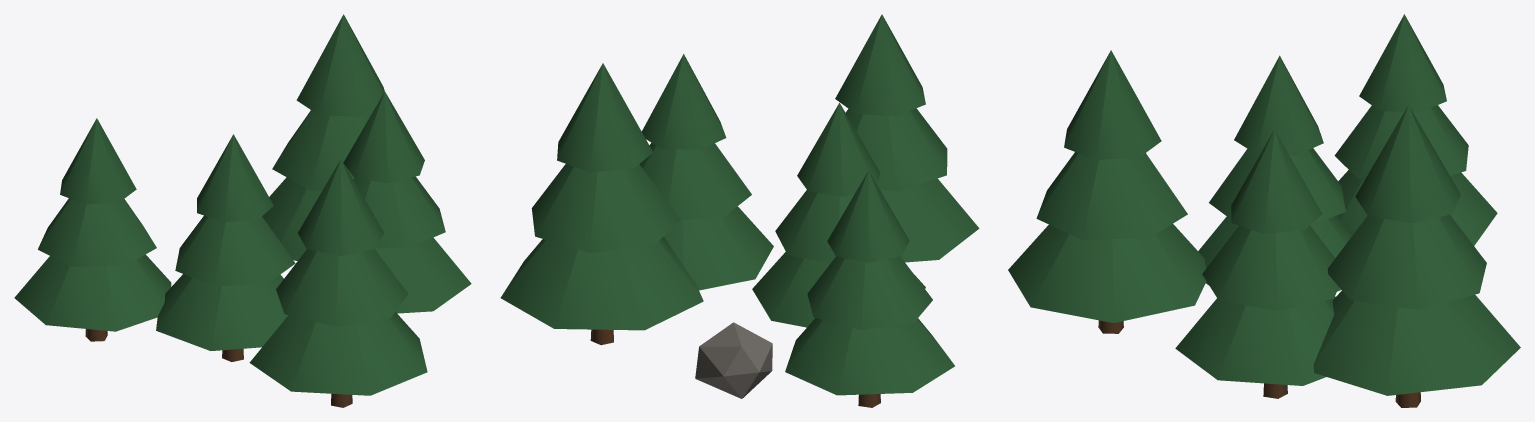
File: sawyer_pine_stand_c.glb
The picture shows the model from 3 angles, left to right: view 1: azimuth 30°, elevation 25°; view 2: azimuth 150°, elevation 25°; view 3: azimuth 270°, elevation 25°; orthographic projection. The views are drawn at different scales.
Parts seen in each view (by area): view 1: pine_3_tier0, pine_0_tier0, pine_3_tier1, pine_2_tier0, pine_2_tier1, pine_0_tier1, pine_5_tier2, pine_3_tier2, pine_5_tier1, pine_1_tier1, pine_1_tier2, pine_1_tier0 (+3 smaller); view 2: pine_5_tier0, pine_5_tier1, pine_0_tier0, pine_0_tier1, pine_5_tier2, pine_1_tier0, pine_1_tier1, pine_3_tier1, pine_3_tier2, pine_3_tier0, pine_1_tier2, pine_0_tier2 (+4 smaller); view 3: pine_5_tier0, pine_3_tier0, pine_5_tier1, pine_1_tier0, pine_3_tier1, pine_1_tier1, pine_5_tier2, pine_3_tier2, pine_1_tier2, pine_0_tier2, pine_2_tier2, pine_0_tier1 (+3 smaller).
Part boxes in pixels (box(x1,y1,x2,y2)): pine_3_tier0: box(249, 312, 427, 395); pine_0_tier0: box(14, 254, 171, 331); pine_3_tier1: box(276, 249, 408, 326); pine_2_tier0: box(156, 274, 288, 350); pine_2_tier1: box(175, 215, 295, 286); pine_0_tier1: box(38, 198, 156, 266); pine_5_tier2: box(296, 14, 384, 116); pine_3_tier2: box(298, 159, 383, 255); pine_5_tier1: box(272, 110, 373, 190); pine_1_tier1: box(353, 176, 445, 248); pine_1_tier2: box(343, 91, 424, 183); pine_1_tier0: box(375, 237, 471, 313); pine_5_tier0: box(500, 236, 703, 330); pine_5_tier1: box(531, 164, 680, 252); pine_0_tier0: box(785, 318, 954, 395); pine_0_tier1: box(807, 256, 932, 329); pine_5_tier2: box(557, 63, 653, 172); pine_1_tier0: box(663, 206, 773, 290); pine_1_tier1: box(639, 142, 751, 220); pine_3_tier1: box(845, 108, 947, 191); pine_3_tier2: box(835, 14, 925, 116); pine_3_tier0: box(880, 178, 979, 262); pine_1_tier2: box(641, 54, 726, 149); pine_0_tier2: box(827, 170, 909, 262); pine_5_tier0: box(1313, 291, 1520, 395); pine_3_tier0: box(1008, 224, 1206, 322); pine_5_tier1: box(1327, 214, 1486, 309); pine_1_tier0: box(1175, 296, 1335, 385); pine_3_tier1: box(1036, 152, 1187, 239); pine_1_tier1: box(1202, 225, 1338, 310); pine_5_tier2: box(1355, 105, 1460, 223); pine_3_tier2: box(1064, 50, 1161, 160); pine_1_tier2: box(1231, 129, 1322, 233); pine_0_tier2: box(1359, 14, 1446, 112); pine_2_tier2: box(1234, 55, 1323, 155); pine_0_tier1: box(1334, 105, 1468, 179).
Bounding box in the file's own units: 4.71 × 3.07 × 4.59.
